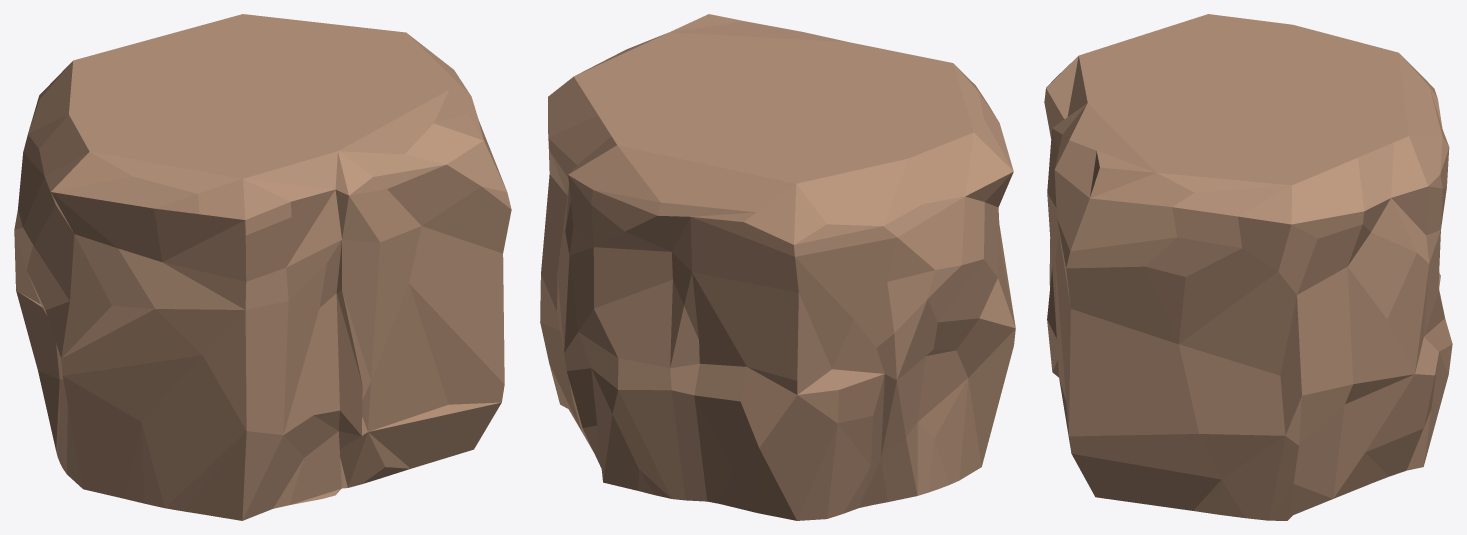
The model's file is light_small_rock.fbx.
3 renders of one model, left to right at view 1: azimuth 30°, elevation 25°; view 2: azimuth 150°, elevation 25°; view 3: azimuth 270°, elevation 25°, orthographic. The views are drawn at different scales.
Visible parts, largest first — view 1: light_small_rock; view 2: light_small_rock; view 3: light_small_rock.
Part boxes in pixels (box(x1,y1,x2,y2)): light_small_rock: box(14, 14, 511, 520); light_small_rock: box(540, 14, 1015, 520); light_small_rock: box(1044, 14, 1452, 520).
Bounding box in the file's own units: 2.95 × 2.2 × 2.48.
